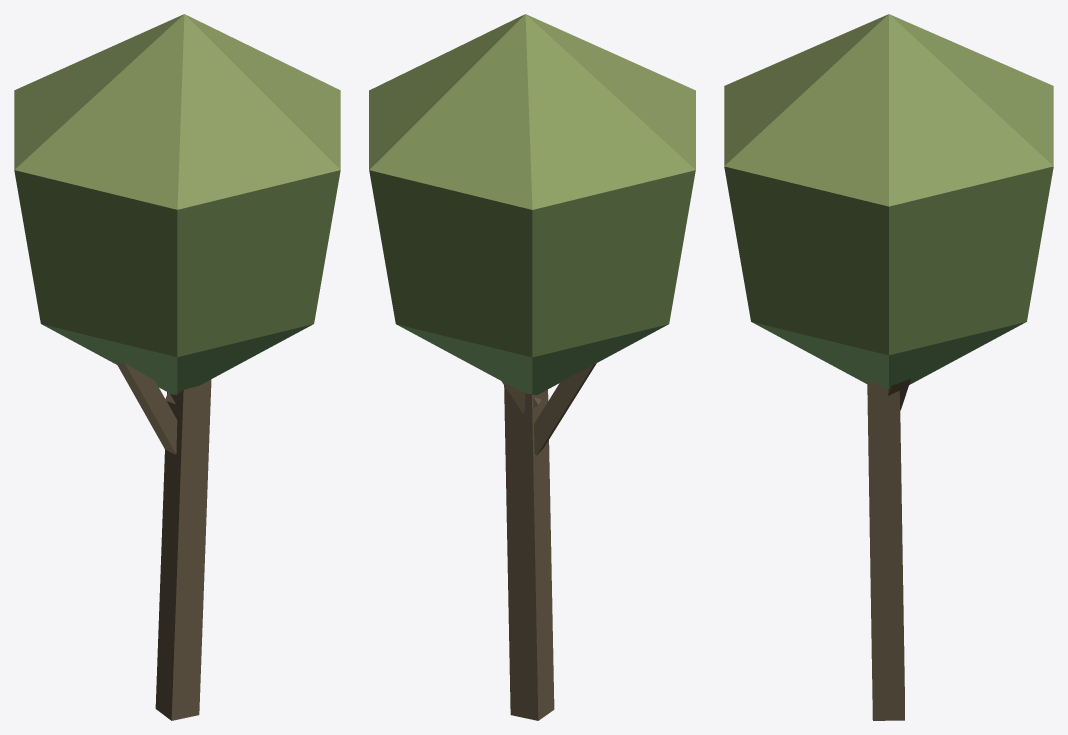
Rendered from ua_valley_willow.obj.
The picture shows the model from 3 angles, left to right: view 1: azimuth 30°, elevation 25°; view 2: azimuth 150°, elevation 25°; view 3: azimuth 270°, elevation 25°; orthographic projection.
Visible parts, largest first — view 1: ua_valley_willow; view 2: ua_valley_willow; view 3: ua_valley_willow.
Part boxes in pixels (bbox=[...]): ua_valley_willow: bbox=[14, 14, 340, 720]; ua_valley_willow: bbox=[369, 14, 695, 720]; ua_valley_willow: bbox=[724, 14, 1053, 720].
Size of the model in its own units: 2.36 by 4.8 by 2.04.
